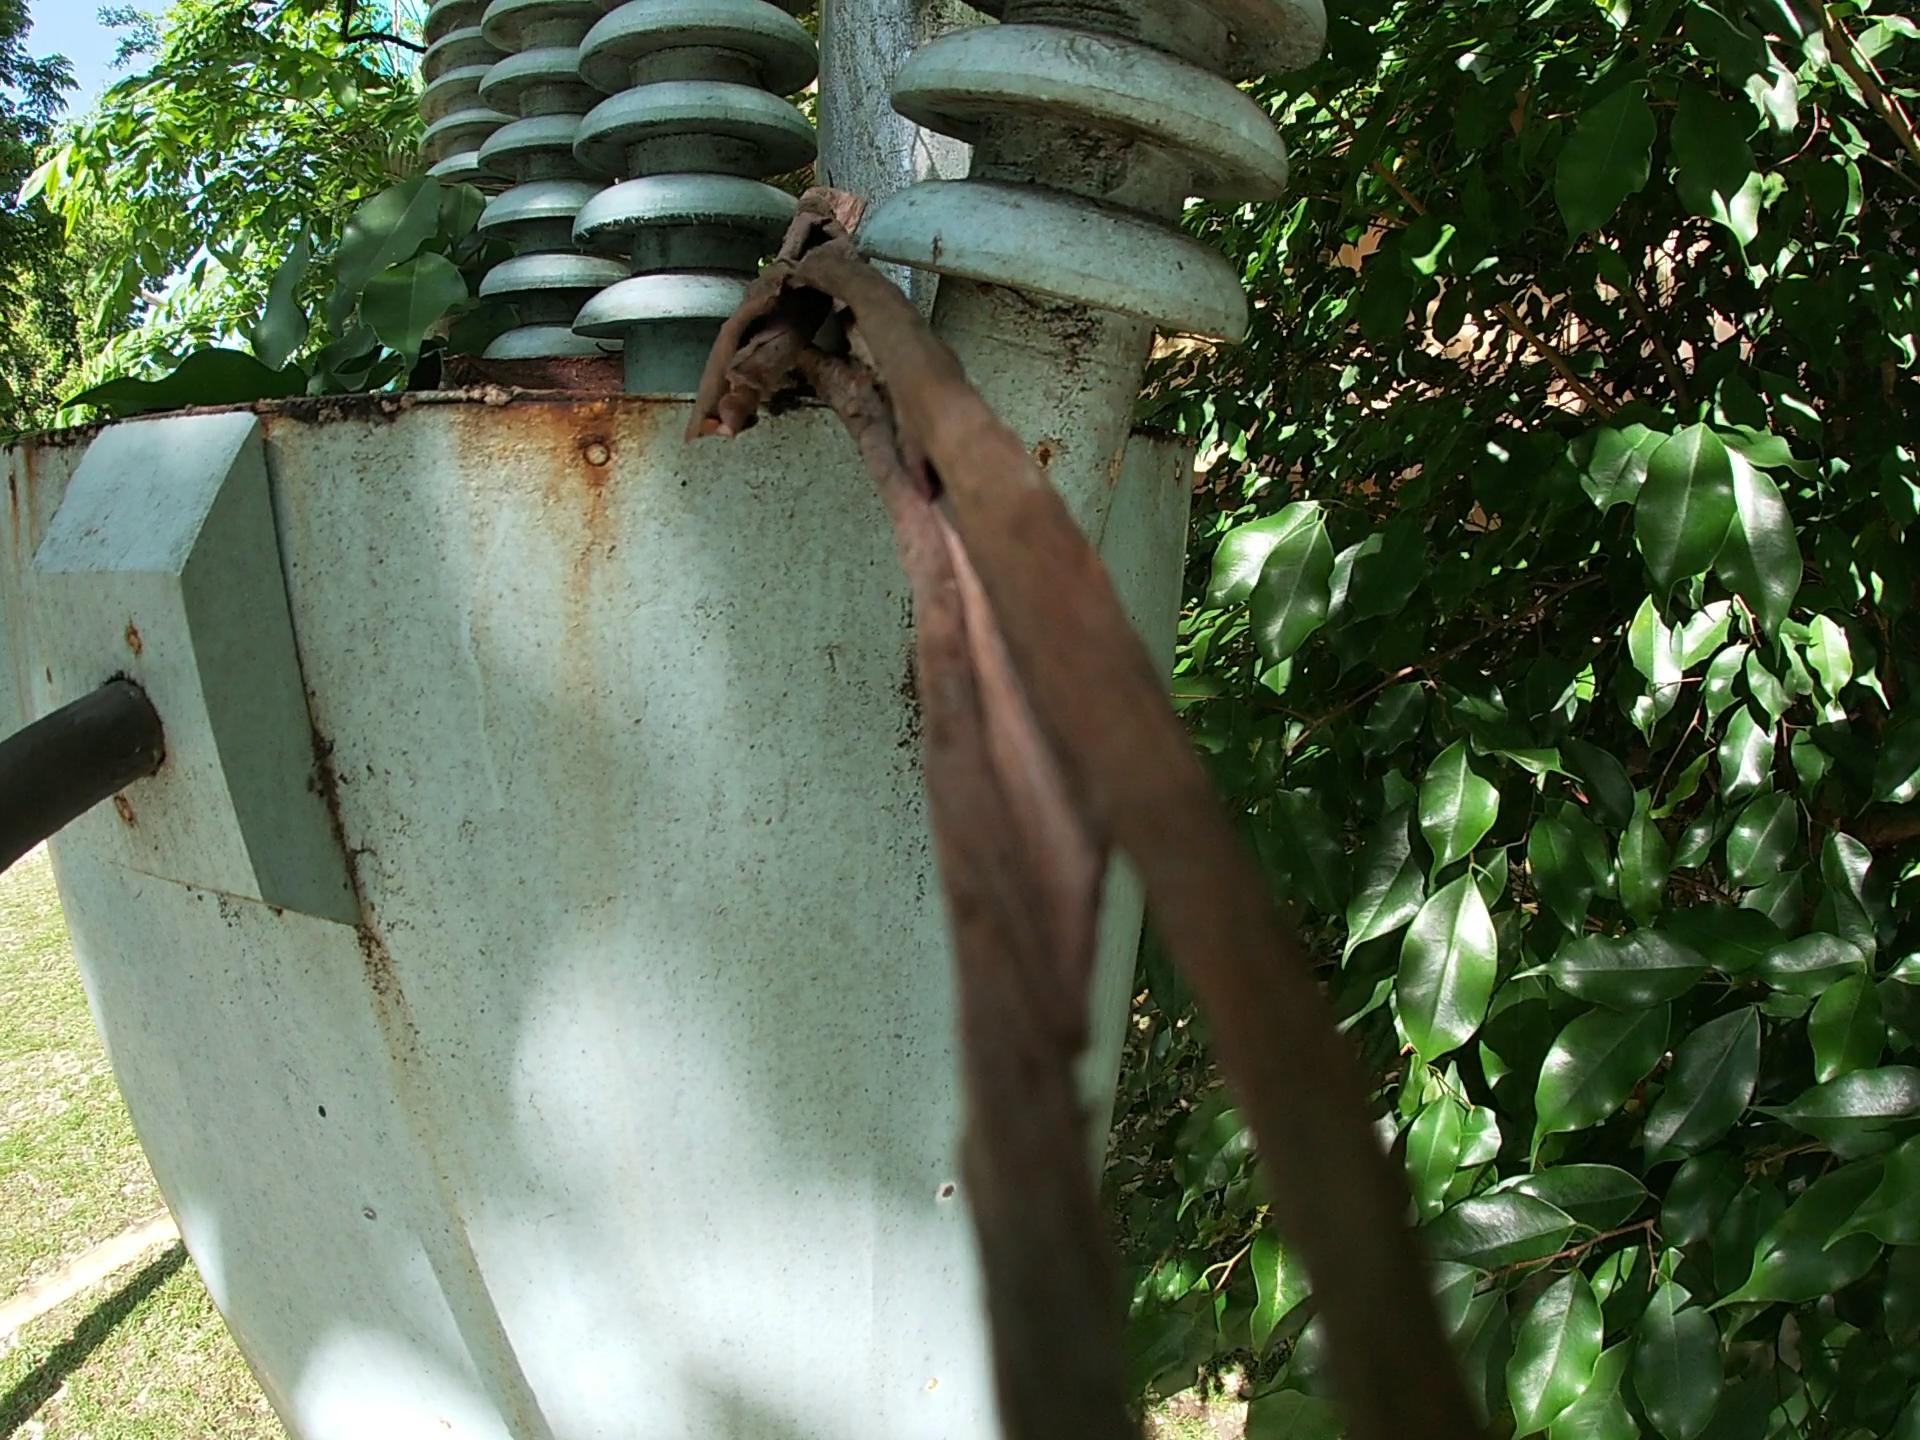branch with leaves: (32, 121, 511, 424)
mahogany fruit: (472, 349, 635, 396)
tree branch: (671, 157, 1554, 1440)
